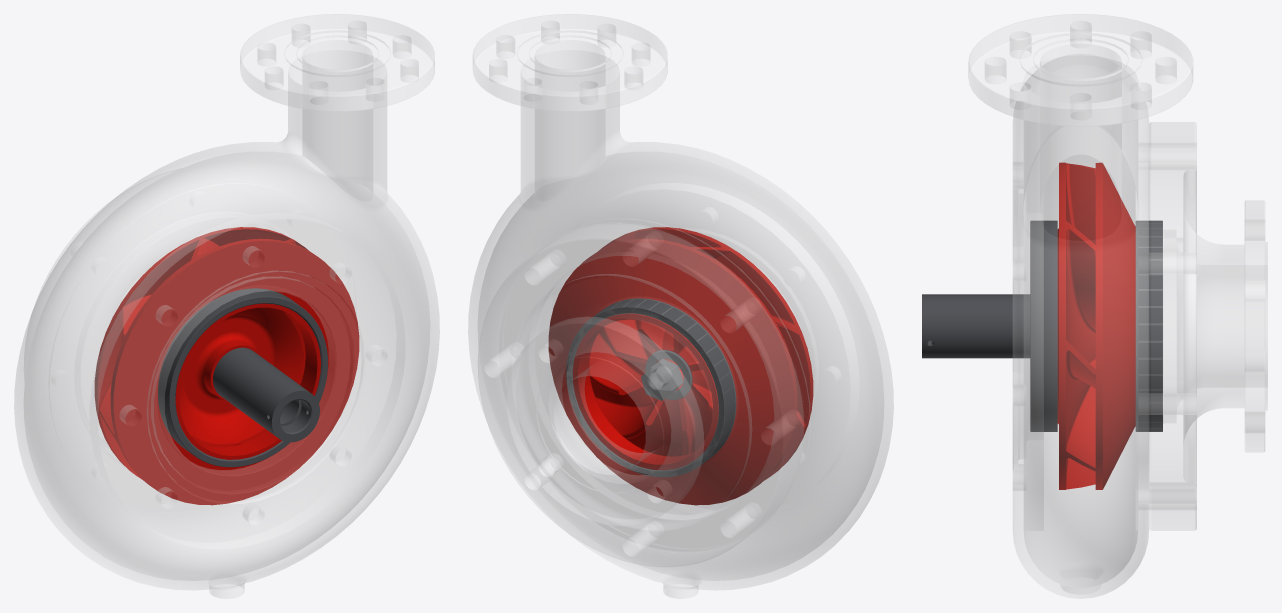
File: MyPump.glb
3 renders of one model, left to right at view 1: azimuth 30°, elevation 25°; view 2: azimuth 150°, elevation 25°; view 3: azimuth 270°, elevation 25°, orthographic. The views are drawn at different scales.
Visible parts, largest first — view 1: casing, rotor, frontcase, shaft, back ring; view 2: casing, frontcase, rotor, ring, nut, washer; view 3: casing, frontcase, rotor, shaft, back ring, ring.
Part boxes in pixels (left/top/right/bottom): casing: left=14, top=14, right=439, bottom=598; rotor: left=94, top=227, right=359, bottom=505; frontcase: left=24, top=169, right=288, bottom=464; shaft: left=213, top=347, right=319, bottom=442; back ring: left=158, top=288, right=327, bottom=467; casing: left=468, top=14, right=893, bottom=598; frontcase: left=478, top=223, right=803, bottom=566; rotor: left=548, top=227, right=813, bottom=505; ring: left=566, top=298, right=736, bottom=477; nut: left=641, top=359, right=683, bottom=400; washer: left=645, top=350, right=692, bottom=399; casing: left=968, top=14, right=1192, bottom=598; frontcase: left=1138, top=122, right=1267, bottom=530; rotor: left=1057, top=162, right=1135, bottom=489; shaft: left=922, top=294, right=1030, bottom=358; back ring: left=1030, top=220, right=1057, bottom=431; ring: left=1135, top=220, right=1162, bottom=431.
Size of the model in its own units: 1.1 by 1.31 by 0.6951.
